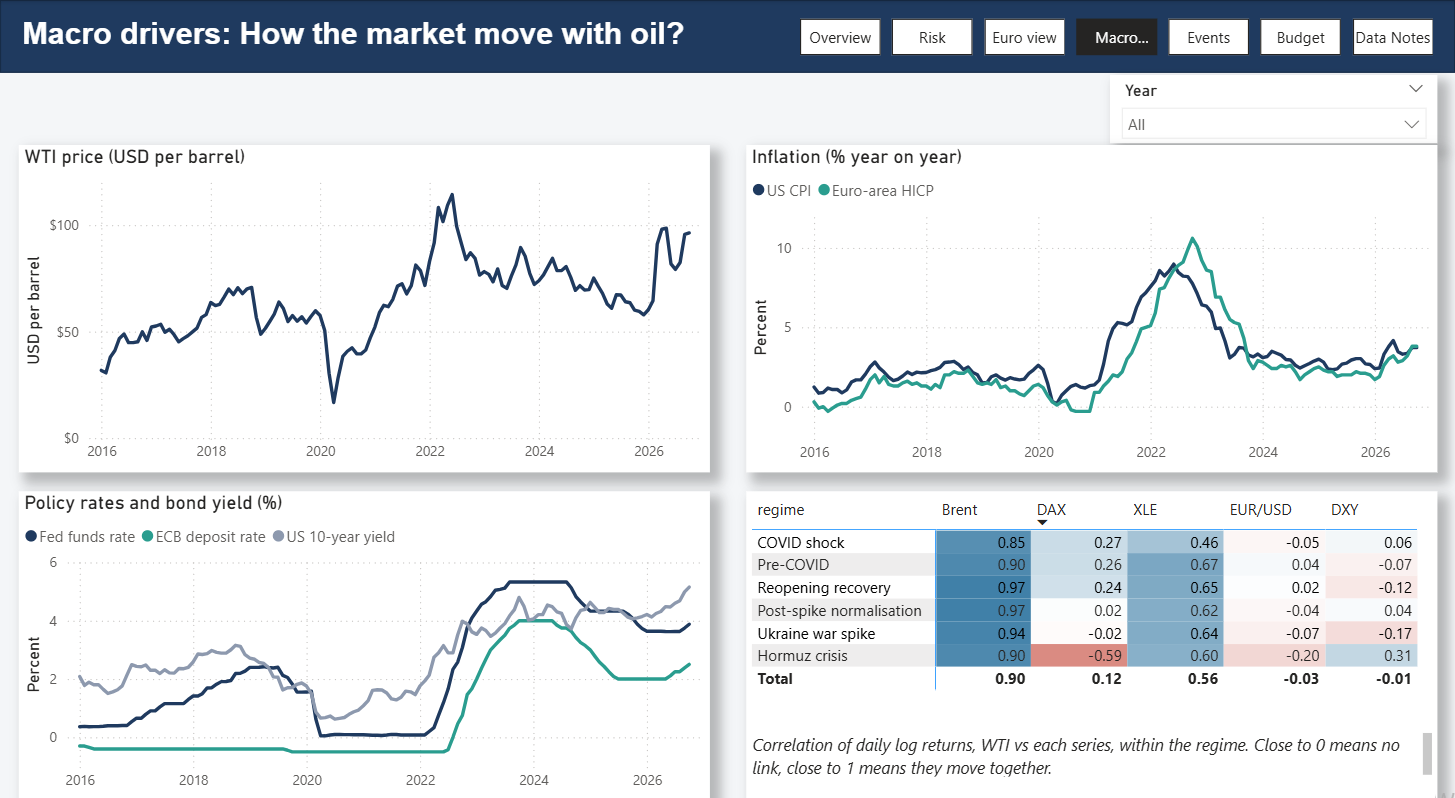

Layout of this report page (visuals, bound fields, positions):
{"tool":"powerbi","page":{"name":"Macro drivers","canvas":[1280,720],"ordinal":3},"visuals":[{"type":"shape","box":[0,0,1280,64],"z":0},{"type":"slicer","fields":{"Values":["dim_date.year"]},"box":[976,66,288,60],"z":1000},{"type":"lineChart","title":"WTI price (USD per barrel)","fields":{"Category":["dim_date.year_month"],"Y":["fact_daily.Avg Close"]},"box":[16,128,608,288],"z":2000},{"type":"lineChart","title":"Policy rates and bond yield (%)","fields":{"Category":["dim_date.year_month"],"Y":["Avg(fact_daily.fed_funds)","Avg(fact_daily.ecb_deposit_rate)","Avg(fact_daily.us10y)"]},"box":[16,432,608,272],"z":3000},{"type":"lineChart","title":"Inflation (% year on year)","fields":{"Category":["dim_date.year_month"],"Y":["Avg(fact_daily.us_cpi_yoy)","Avg(fact_daily.ea_hicp_yoy)"]},"box":[656,128,608,288],"z":4000},{"type":"pivotTable","fields":{"Rows":["dim_regime.regime"],"Values":["fact_daily.Corr WTI vs Brent","fact_daily.Corr WTI vs DAX","fact_daily.Corr WTI vs XLE","fact_daily.Corr WTI vs EURUSD","fact_daily.Corr WTI vs DXY"]},"box":[656,432,608,272],"z":5000},{"type":"textbox","box":[0,10,608,48],"z":6000},{"type":"textbox","box":[656,640,608,48],"z":7000},{"type":"pageNavigator","box":[704,16,560,32],"z":8000}]}

Visuals, with their boxes in screenshot pixels (x1, y1, x2, y2), scaled from the page's 1280x720 canvas onto the 1455x798 screenshot:
shape: <bbox>0, 0, 1454, 71</bbox>
slicer - dim_date.year: <bbox>1109, 73, 1437, 140</bbox>
"WTI price (USD per barrel)" lineChart: <bbox>18, 142, 709, 461</bbox>
"Policy rates and bond yield (%)" lineChart: <bbox>18, 479, 709, 780</bbox>
"Inflation (% year on year)" lineChart: <bbox>746, 142, 1437, 461</bbox>
pivotTable - dim_regime.regime x fact_daily.Corr WTI vs Brent: <bbox>746, 479, 1437, 780</bbox>
textbox: <bbox>0, 11, 691, 64</bbox>
textbox: <bbox>746, 709, 1437, 763</bbox>
pageNavigator: <bbox>800, 18, 1437, 53</bbox>
